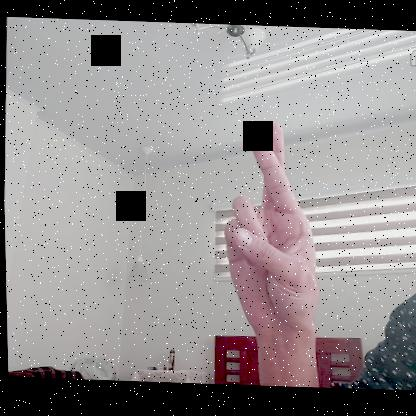R: (216, 121, 322, 341)
